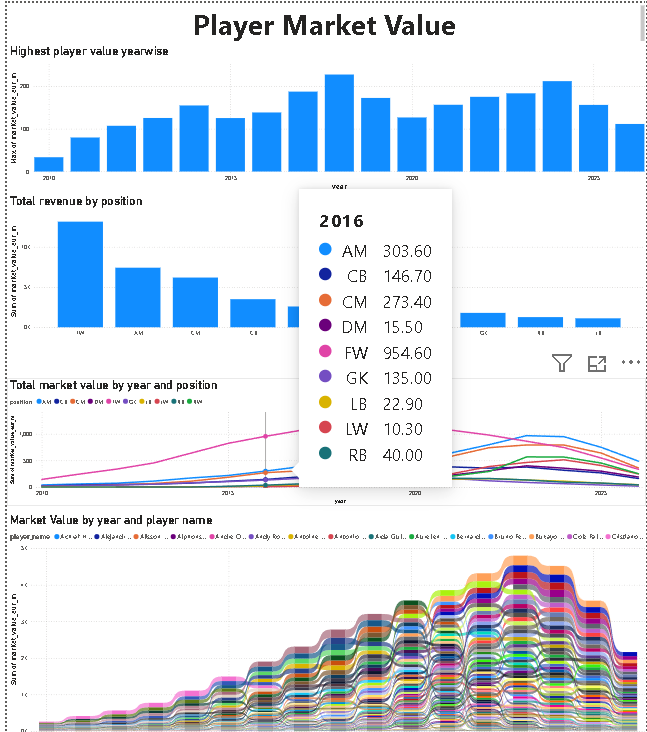

Layout of this report page (visuals, bound fields, positions):
{"tool":"powerbi","page":{"name":"Player Market Value","canvas":[1280,1500],"ordinal":3},"visuals":[{"type":"textbox","box":[0,0,1280,82.9],"z":0},{"type":"clusteredColumnChart","title":"Highest player value yearwise","fields":{"Category":["player_market_values.year","player_market_values.player_name"],"Y":["Max(player_market_values.market_value_eur_m)"]},"box":[0,82.9,1280,298.6],"z":1000},{"type":"lineChart","title":"Total market value by year and position","fields":{"Y":["Sum(player_market_values.market_value_eur_m)"],"Category":["player_market_values.year"],"Series":["player_market_values.position"]},"box":[0,750,1280,258.6],"z":2000},{"type":"clusteredColumnChart","title":"Total revenue by position","fields":{"Category":["player_market_values.position"],"Y":["Sum(player_market_values.market_value_eur_m)"]},"box":[0,381.4,1280,310],"z":3000},{"type":"ribbonChart","title":"Market Value by year and player name","fields":{"Category":["player_market_values.year"],"Y":["Sum(player_market_values.market_value_eur_m)"],"Series":["player_market_values.player_name"]},"box":[0,1020,1280,480],"z":4000}]}

Visuals, with their boxes on the page's 1280x1500 design canvas (x1, y1, x2, y2). These are canvas units, not pixel positions in the 647x732 screenshot, which may show the page scaled, cropped or inside an application window:
textbox: (x1=0, y1=0, x2=1280, y2=83)
"Highest player value yearwise" clusteredColumnChart: (x1=0, y1=83, x2=1280, y2=382)
"Total market value by year and position" lineChart: (x1=0, y1=750, x2=1280, y2=1009)
"Total revenue by position" clusteredColumnChart: (x1=0, y1=381, x2=1280, y2=691)
"Market Value by year and player name" ribbonChart: (x1=0, y1=1020, x2=1280, y2=1500)
